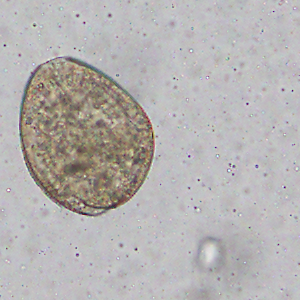Fasciola_hepatica_egg: (17, 54, 157, 218)
